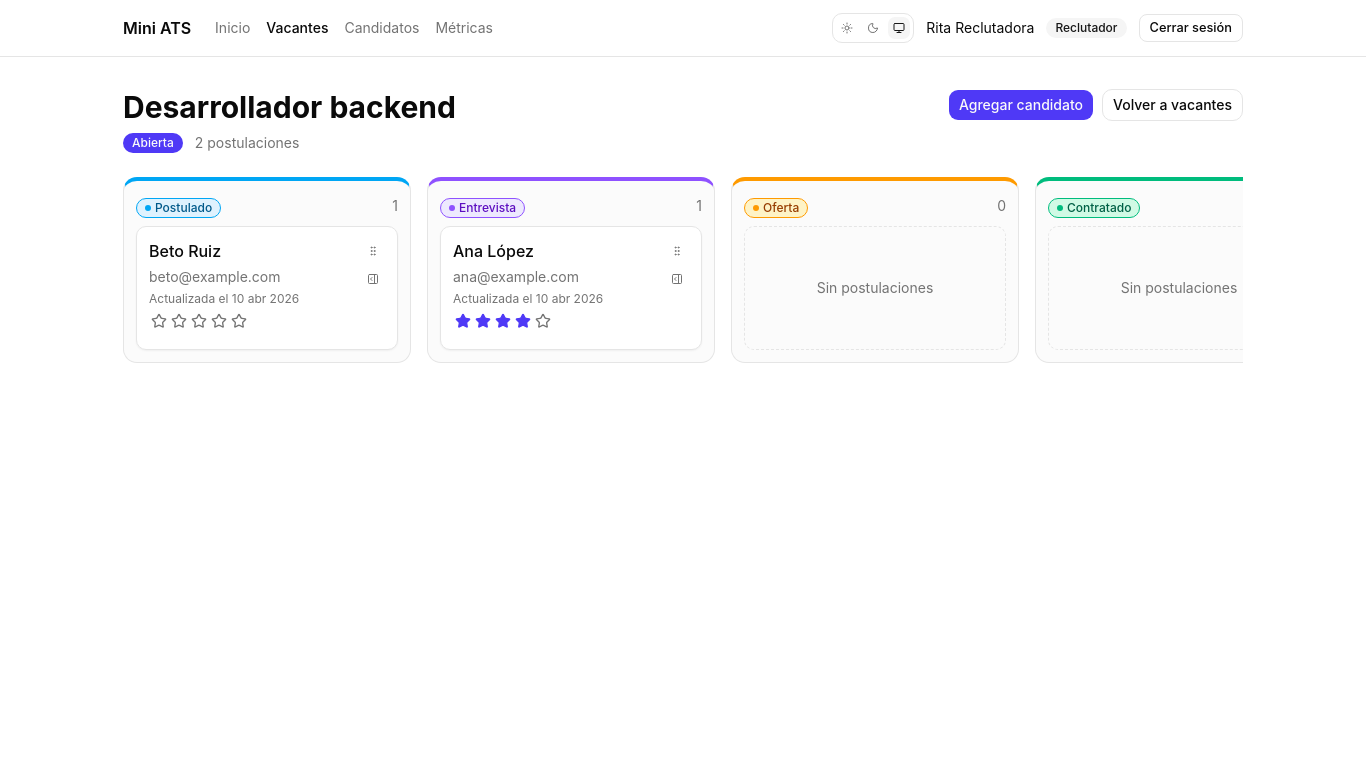
ApplicationDetailSheet › closes with Escape and gives the focus back to the button that opened it
Step 1. Click the button named "Ver detalle de la postulación de Ana López" → (677, 279), box [665, 267, 689, 291]
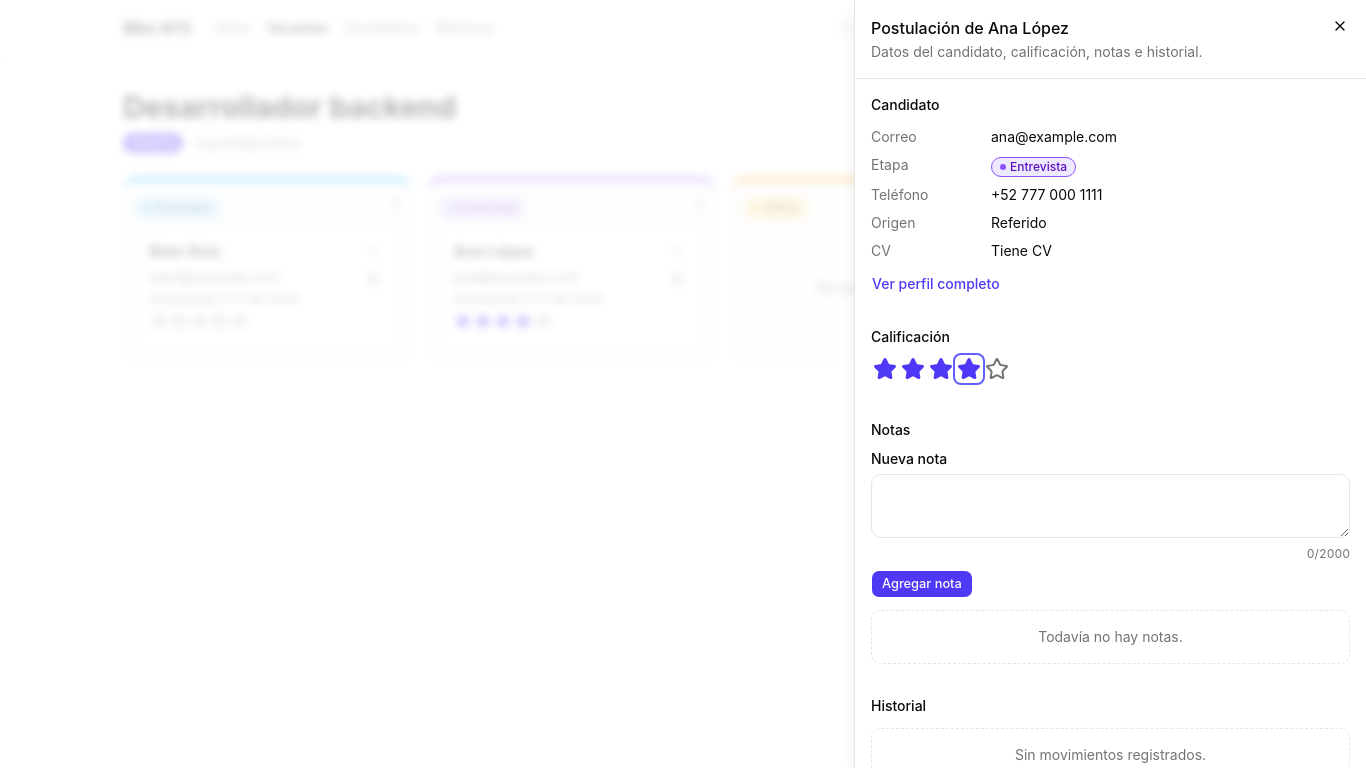
Step 2. Press Escape
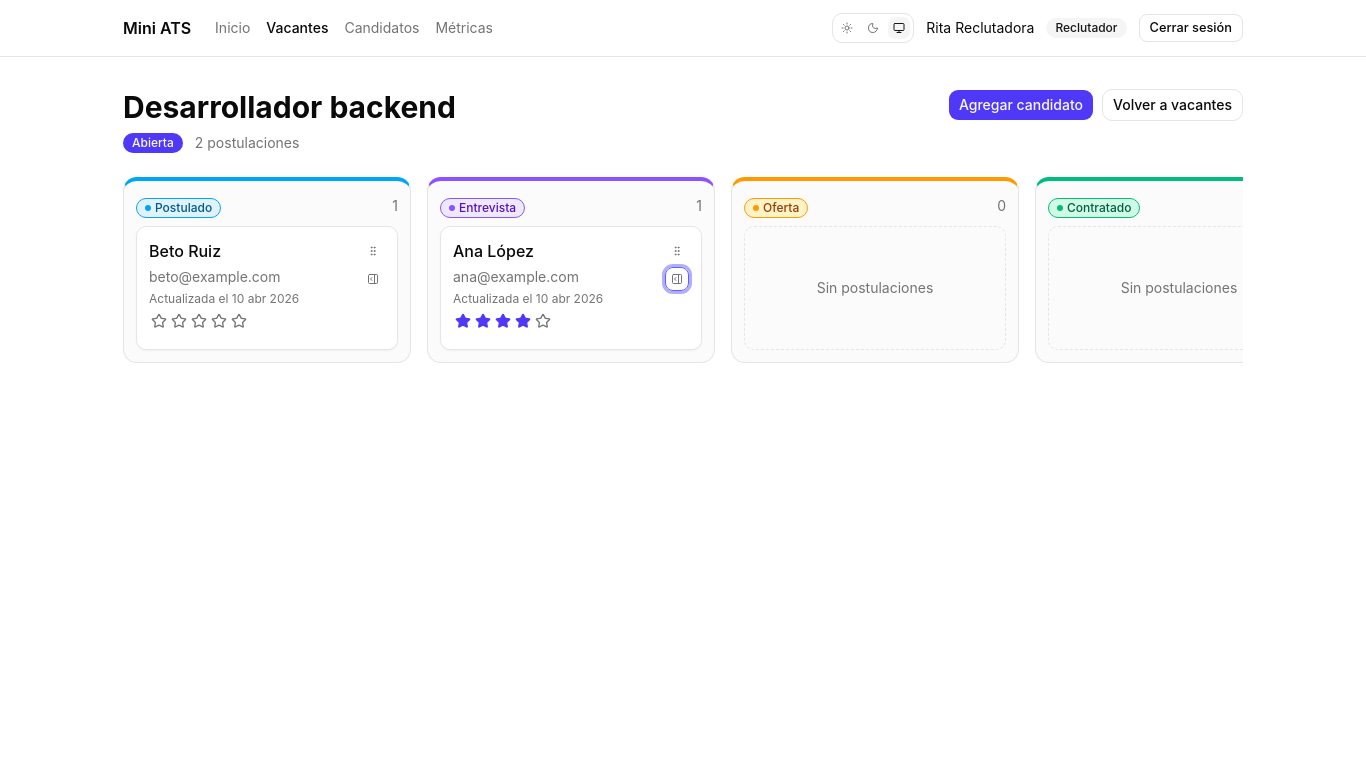
Now the dialog is gone
